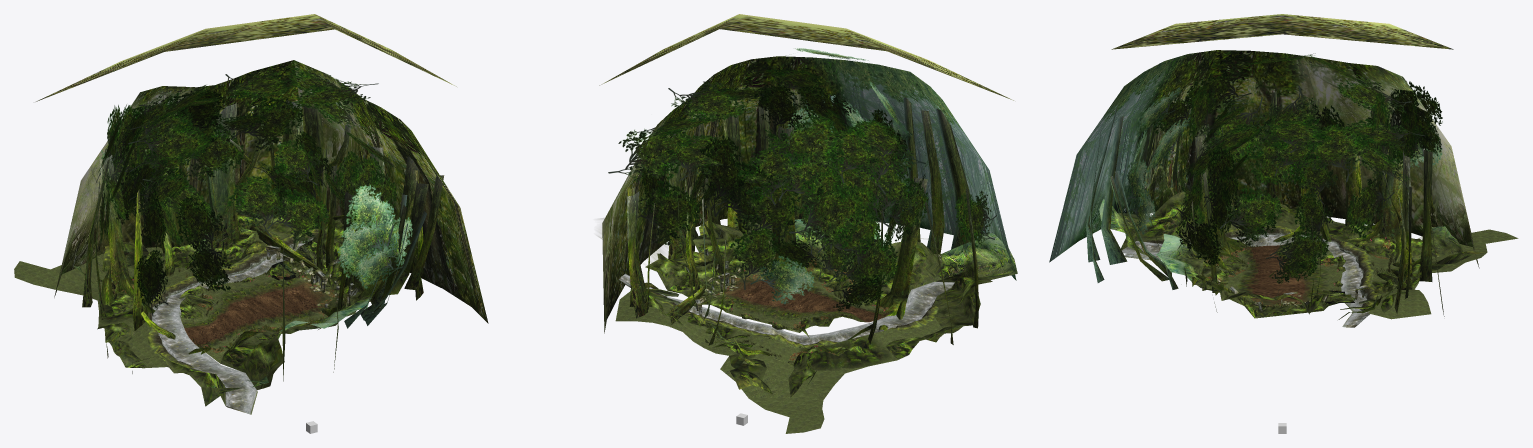
Rendered from ruins-output_chunked_clean.glb.
The picture shows the model from 3 angles, left to right: view 1: azimuth 30°, elevation 25°; view 2: azimuth 150°, elevation 25°; view 3: azimuth 270°, elevation 25°; orthographic projection. The views are drawn at different scales.
Parts seen in each view (by area): view 1: FrontSide_4, Canopy_11, FrontSide_16, FrontSide_17, FrontSide_13, MossyRock_00, Canopy_04, FrontSide_11, Tree_00, FrontSide_9, Path, Canopy_03 (+37 smaller); view 2: FrontSide_4, Canopy_04, FrontSide_17, Canopy_11, MossyRock_00, Canopy_07, FrontSide_11, FrontSide_16, Canopy_00, Canopy_10, Canopy_15, FrontSide_1 (+37 smaller); view 3: FrontSide_4, FrontSide_11, Canopy_13, Canopy_04, FrontSide_17, Canopy_11, Canopy_05, FrontSide_13, FrontSide_16, Canopy_02, Canopy_09, FrontSide_1 (+31 smaller).
Boxes of the visible parts, box(x1,y1,x2,y2) form: FrontSide_4: box(54, 60, 488, 323); Canopy_11: box(128, 107, 211, 247); FrontSide_16: box(182, 270, 335, 350); FrontSide_17: box(14, 215, 327, 367); FrontSide_13: box(101, 150, 412, 288); MossyRock_00: box(143, 214, 390, 327); Canopy_04: box(96, 85, 218, 224); FrontSide_11: box(36, 14, 456, 101); Tree_00: box(151, 102, 239, 276); FrontSide_9: box(152, 243, 304, 412); Path: box(148, 229, 318, 414); Canopy_03: box(227, 146, 317, 243); FrontSide_4: box(602, 56, 1016, 333); Canopy_04: box(742, 114, 852, 285); FrontSide_17: box(615, 272, 941, 433); Canopy_11: box(819, 119, 918, 242); MossyRock_00: box(644, 220, 792, 367); Canopy_07: box(637, 135, 746, 245); FrontSide_11: box(599, 14, 1013, 100); FrontSide_16: box(705, 276, 893, 338); Canopy_00: box(715, 144, 779, 289); Canopy_10: box(754, 68, 854, 183); Canopy_15: box(818, 184, 879, 311); FrontSide_1: box(794, 219, 1017, 383); FrontSide_4: box(1049, 50, 1479, 316); FrontSide_11: box(1111, 14, 1453, 49); Canopy_13: box(1258, 129, 1369, 273); Canopy_04: box(1309, 55, 1442, 168); FrontSide_17: box(1209, 222, 1518, 319); Canopy_11: box(1249, 53, 1346, 186); Canopy_05: box(1185, 67, 1267, 164); FrontSide_13: box(1109, 87, 1442, 234); FrontSide_16: box(1237, 243, 1358, 308); Canopy_02: box(1309, 124, 1409, 238); Canopy_09: box(1214, 120, 1332, 283); FrontSide_1: box(1099, 199, 1463, 290).
Size of what is drawn, in the model's own units: 98.57 by 99.93 by 113.
23 materials, 19 textured.
